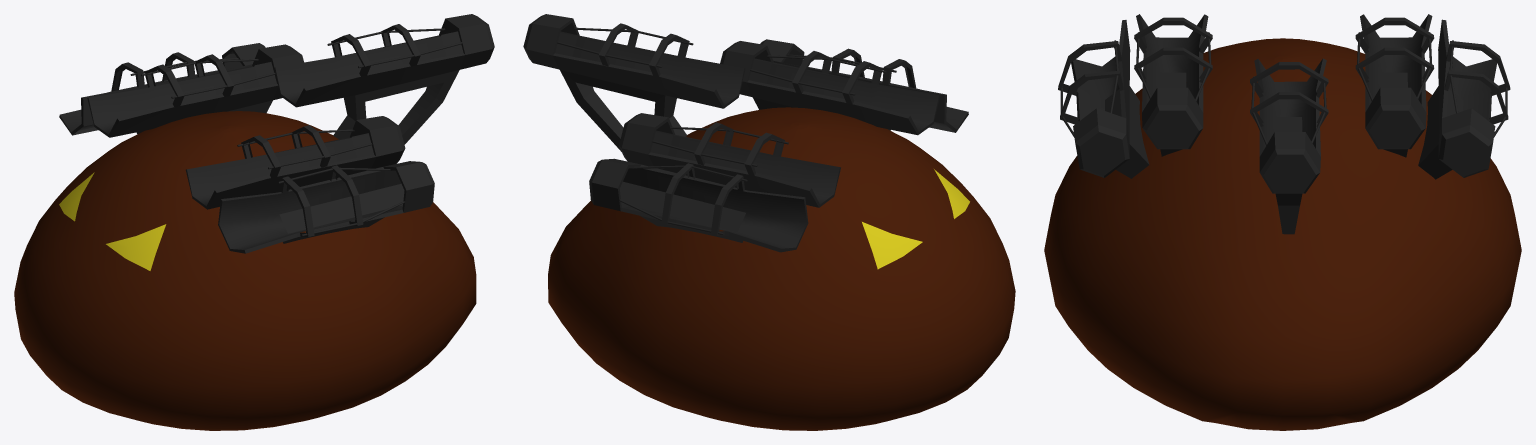
3 views of the same model, side by side, from view 1: azimuth 30°, elevation 25°; view 2: azimuth 150°, elevation 25°; view 3: azimuth 270°, elevation 25° (orthographic). The views are drawn at different scales.
Parts seen in each view (by area): view 1: Box196, Cylinder042, Cylinder041, Cylinder031, Cylinder040, Cylinder032; view 2: Box196, Cylinder042, Cylinder032, Cylinder040, Cylinder031, Cylinder041; view 3: Box196, Cylinder042, Cylinder032, Cylinder041, Cylinder040, Cylinder031.
Part boxes in pixels (x1,y1,x2,y2): Box196: (14, 111, 476, 430); Cylinder042: (274, 14, 494, 144); Cylinder041: (218, 161, 434, 253); Cylinder031: (87, 44, 303, 137); Cylinder040: (185, 116, 405, 209); Cylinder032: (59, 43, 265, 135); Box196: (548, 107, 1015, 430); Cylinder042: (523, 14, 745, 151); Cylinder032: (589, 158, 808, 252); Cylinder040: (720, 41, 940, 135); Cylinder031: (619, 113, 840, 207); Cylinder041: (760, 39, 968, 132); Box196: (1044, 38, 1521, 430); Cylinder042: (1250, 58, 1328, 234); Cylinder032: (1418, 19, 1510, 179); Cylinder041: (1058, 20, 1149, 178); Cylinder040: (1134, 14, 1212, 156); Cylinder031: (1355, 14, 1434, 157).
Bounding box in the file's own units: 108 × 69.59 × 87.48.
